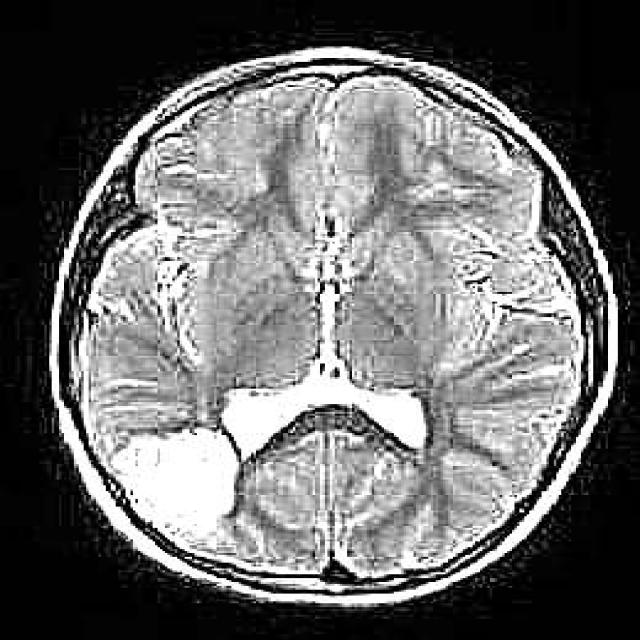Tumor-Cell: (97, 384, 258, 576)
